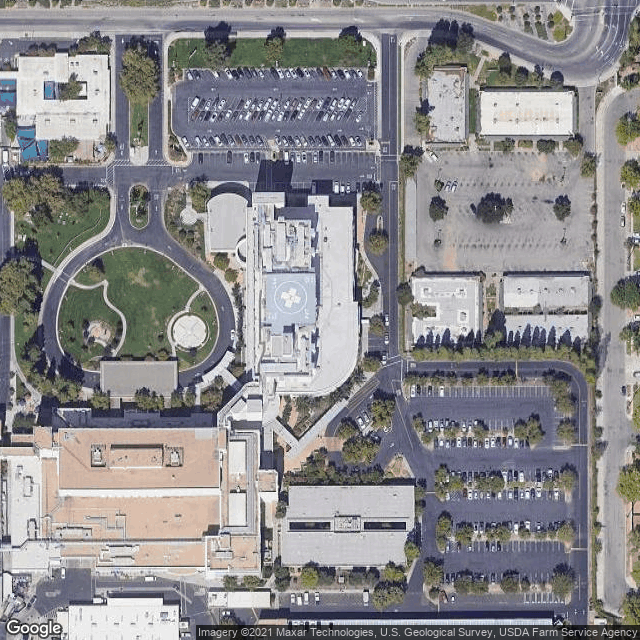Helipad: (273, 280, 310, 316)
